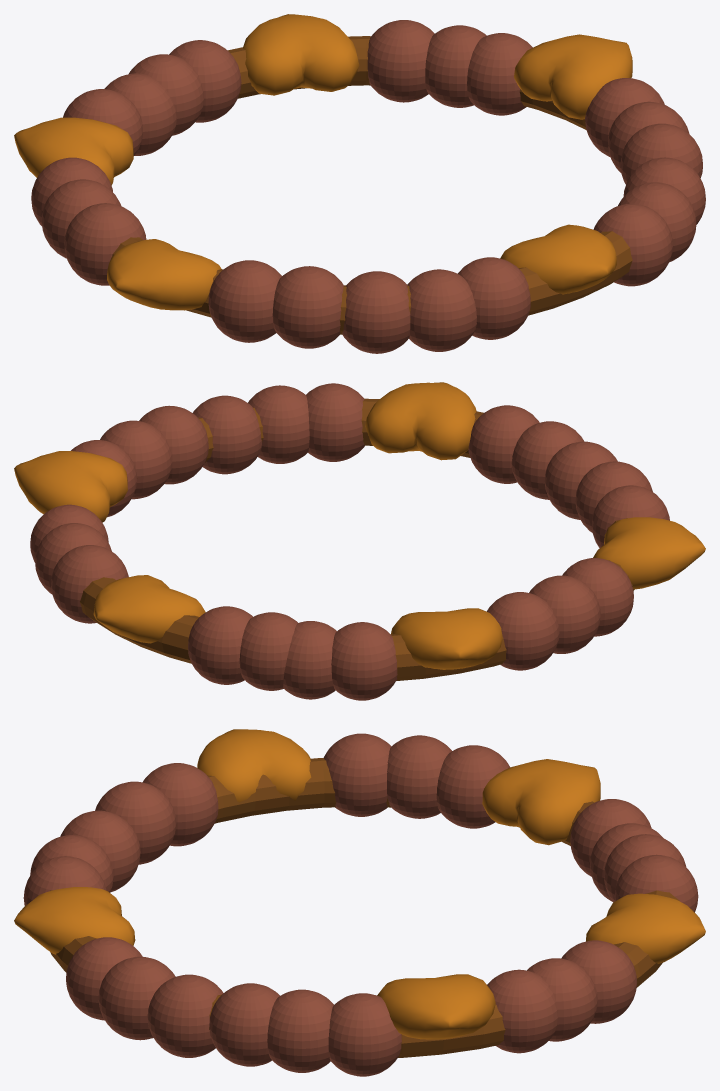
File: Evermore.fbx
The picture shows the model from 3 angles, top to bottom: view 1: azimuth 30°, elevation 25°; view 2: azimuth 150°, elevation 25°; view 3: azimuth 270°, elevation 25°; orthographic projection. The views are drawn at different scales.
Parts seen in each view (by area): view 1: Torus.036; view 2: Torus.036; view 3: Torus.036.
Boxes of the visible parts, bbox=[...] form: Torus.036: bbox=[14, 14, 705, 353]; Torus.036: bbox=[14, 382, 705, 700]; Torus.036: bbox=[14, 729, 705, 1076].
Bounding box in the file's own units: 242 × 34.3 × 232.
